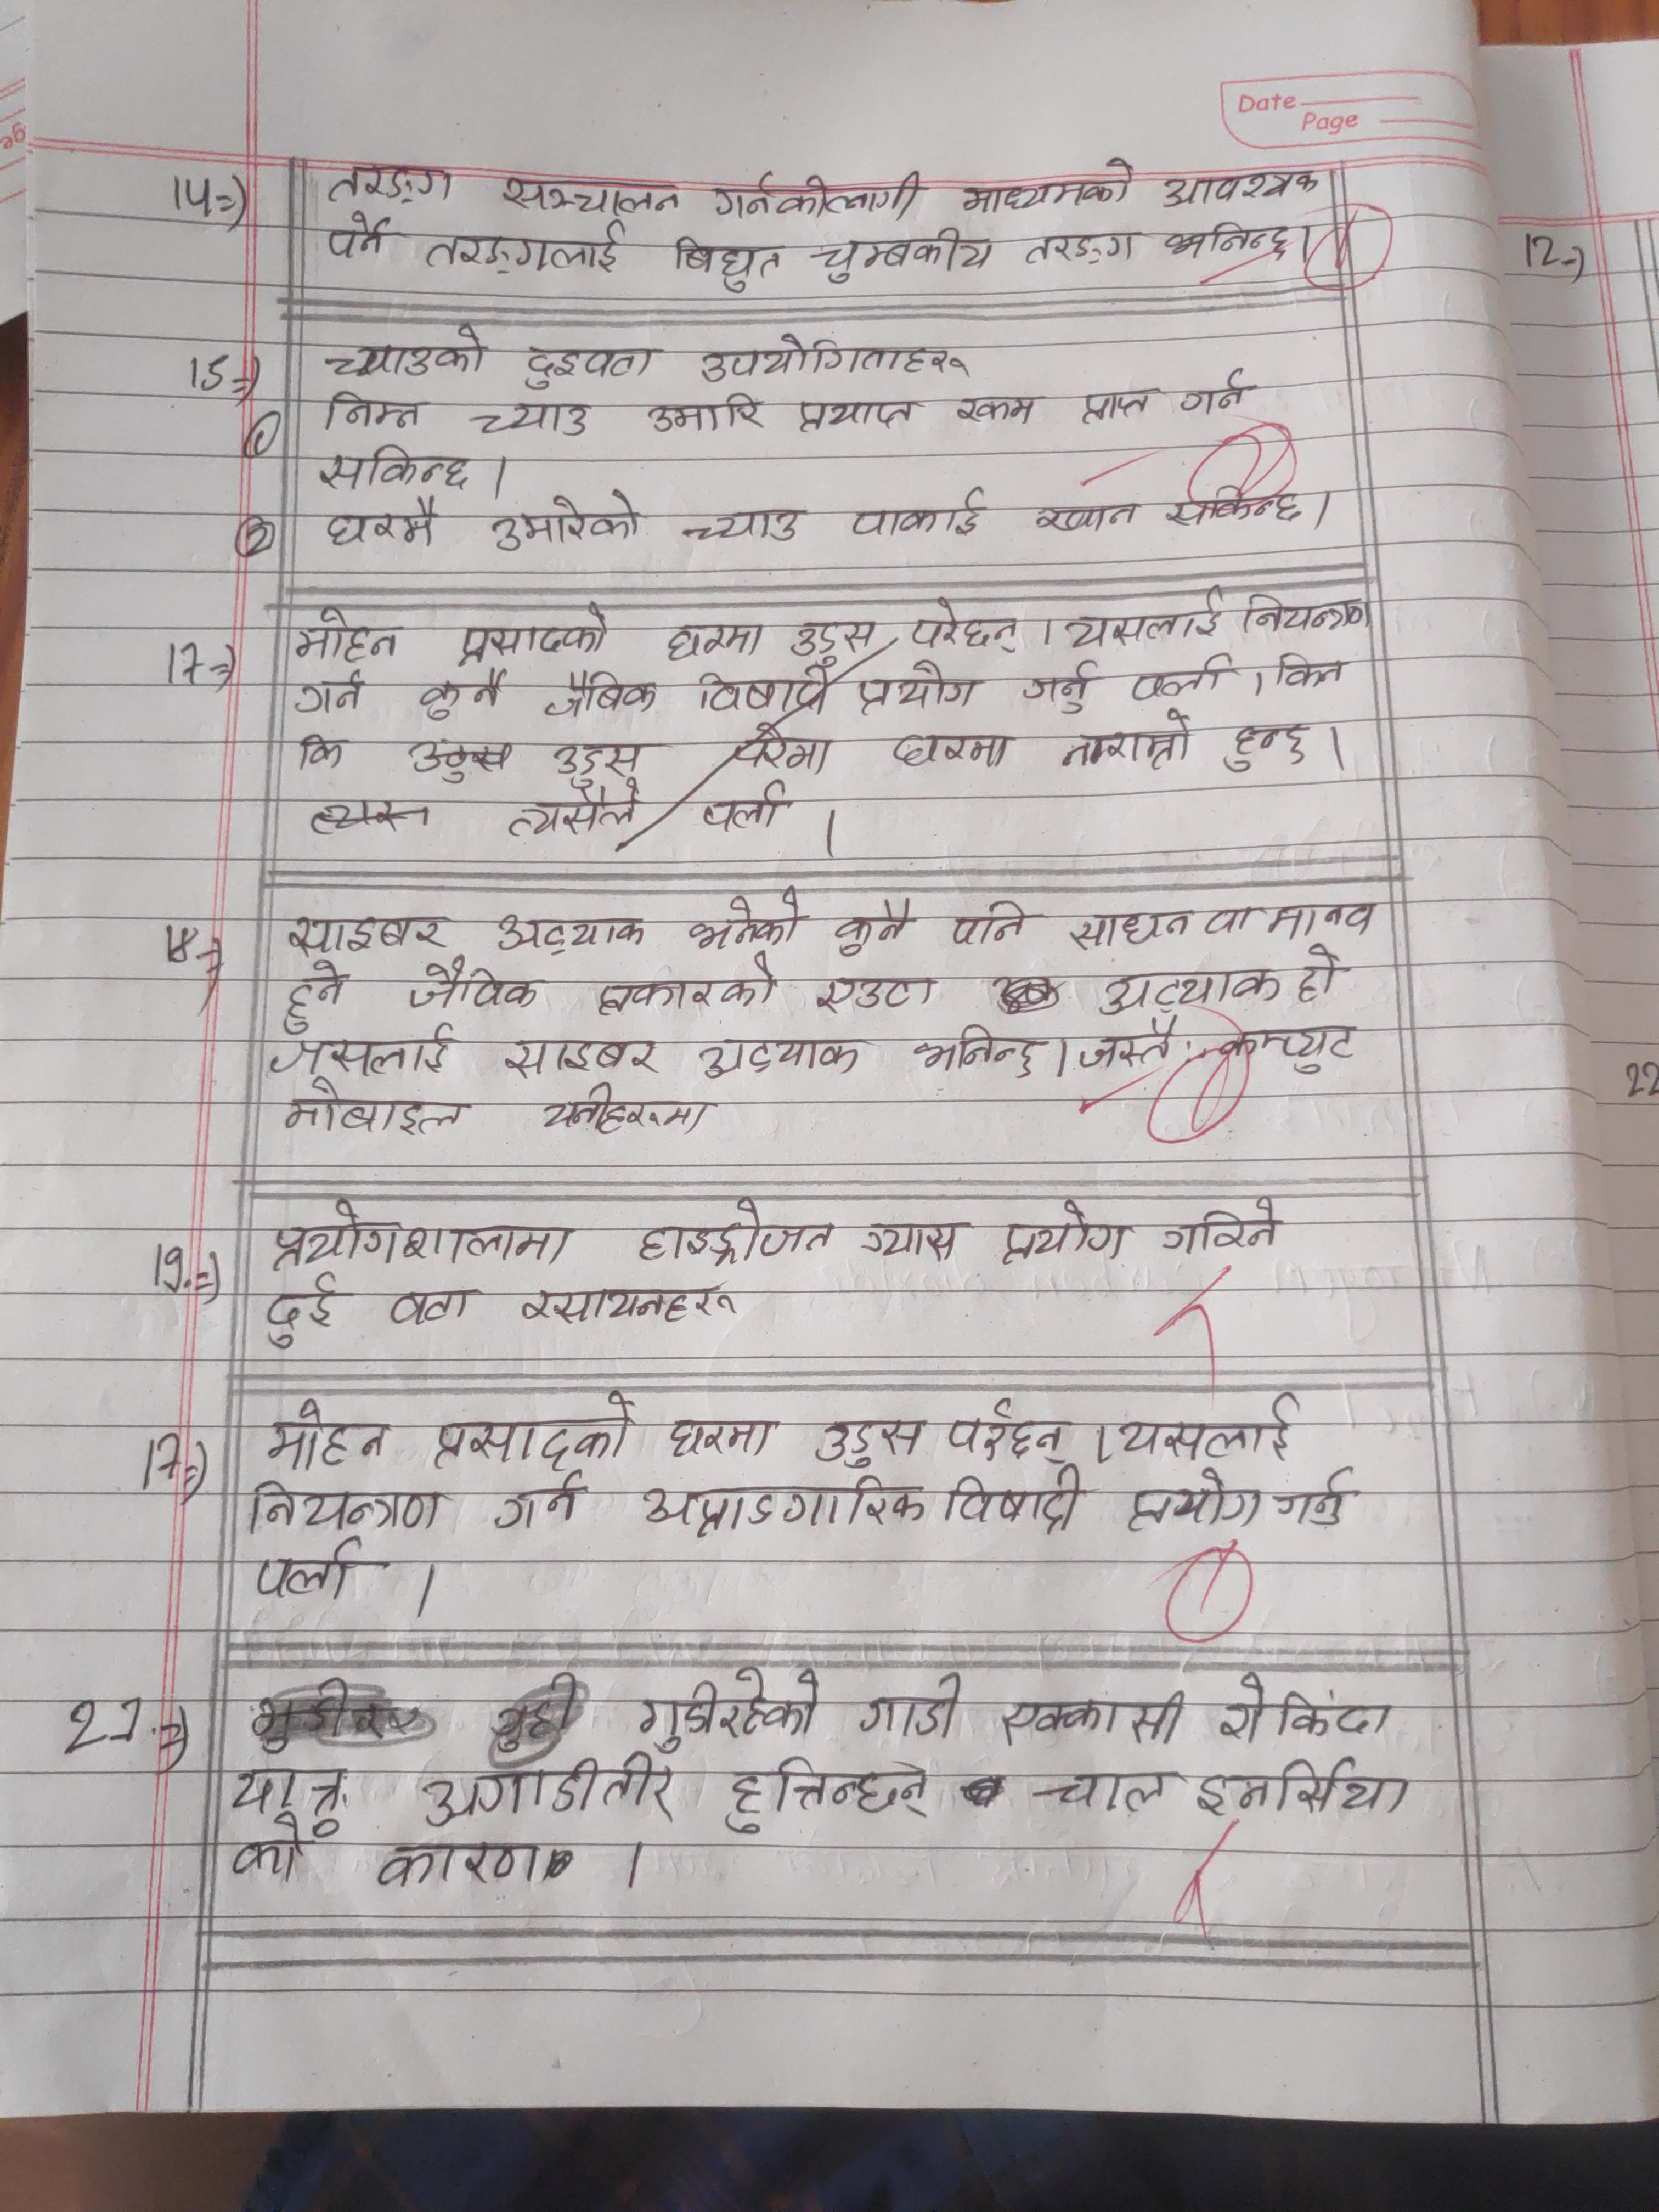text: (263, 1198, 579, 1273), (416, 1757, 676, 1831), (429, 1390, 636, 1472), (728, 1754, 939, 1834), (638, 1474, 931, 1529), (636, 1669, 823, 1747), (699, 333, 967, 383), (1199, 1757, 1406, 1822), (634, 1198, 835, 1263), (1215, 1674, 1394, 1743), (807, 225, 1004, 286), (1119, 1395, 1300, 1461), (999, 1691, 1194, 1752), (423, 221, 627, 279), (282, 1075, 469, 1137), (713, 171, 931, 223), (246, 1477, 446, 1533), (521, 1278, 741, 1329), (592, 958, 784, 1015), (488, 489, 645, 557), (1065, 587, 1225, 653), (538, 1080, 716, 1139), (958, 160, 1140, 218), (938, 1468, 1084, 1538), (455, 601, 608, 667), (315, 320, 490, 378), (1094, 965, 1286, 1017), (261, 1397, 390, 1472), (1124, 1467, 1267, 1533), (267, 1024, 446, 1076), (999, 1200, 1134, 1268), (375, 1838, 542, 1892), (495, 172, 685, 219), (1060, 711, 1199, 772), (314, 444, 476, 496), (497, 1031, 667, 1080), (1209, 1017, 1354, 1075), (910, 1019, 1044, 1080), (284, 911, 451, 960), (697, 660, 830, 721), (945, 1397, 1065, 1463), (852, 1674, 965, 1743), (502, 784, 643, 840), (251, 1536, 369, 1602), (847, 660, 983, 718), (406, 960, 549, 1014), (849, 486, 995, 538), (671, 230, 786, 296), (488, 909, 647, 956), (1161, 1198, 1286, 1258), (695, 1036, 863, 1080), (904, 597, 1026, 657), (519, 341, 662, 392), (683, 894, 809, 949), (321, 502, 450, 556), (1039, 1763, 1175, 1813), (260, 1271, 347, 1350), (659, 1409, 777, 1467), (291, 608, 403, 669), (1061, 902, 1199, 949), (1161, 167, 1321, 207), (319, 162, 460, 207), (1166, 484, 1304, 529), (1162, 221, 1295, 268), (645, 392, 772, 441), (730, 721, 835, 780), (225, 1766, 349, 1815), (816, 1416, 931, 1468), (544, 733, 647, 791), (1269, 1467, 1363, 1529), (228, 1813, 312, 1883), (490, 1470, 587, 1529), (1239, 594, 1370, 637), (697, 780, 798, 836), (810, 972, 945, 1014), (889, 725, 1014, 768), (681, 505, 810, 547), (281, 956, 350, 1033), (544, 671, 660, 716), (469, 399, 594, 441), (1075, 1019, 1175, 1071), (1263, 899, 1382, 942), (410, 671, 511, 721), (791, 395, 918, 435), (321, 390, 430, 435), (833, 900, 918, 958), (946, 899, 1037, 953), (326, 207, 403, 270), (856, 1219, 965, 1263), (1019, 228, 1145, 265), (387, 1280, 479, 1329), (788, 620, 878, 669), (1021, 660, 1098, 718), (1127, 660, 1232, 700), (666, 618, 765, 660), (1223, 721, 1307, 770), (295, 665, 371, 718), (1175, 366, 1256, 411), (1033, 502, 1147, 531), (1269, 648, 1347, 690), (1293, 941, 1344, 1005), (1077, 385, 1154, 425), (953, 394, 1037, 430), (298, 728, 347, 770), (1206, 900, 1251, 941)
